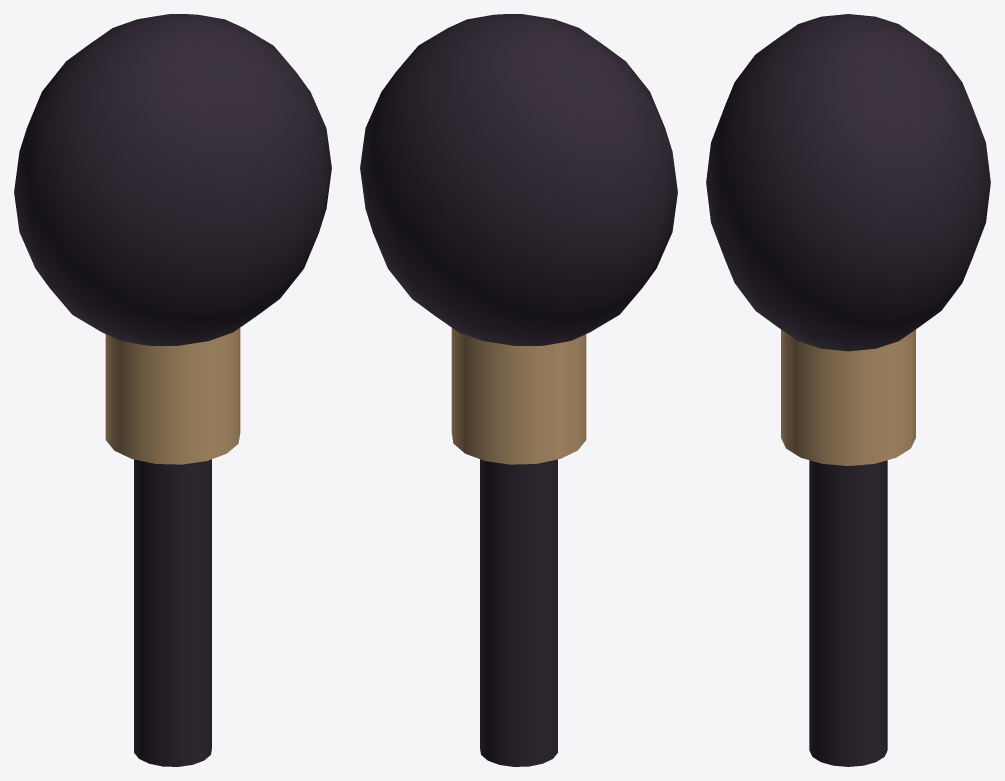
File: TRD-03-01.glb
The picture shows the model from 3 angles, left to right: view 1: azimuth 30°, elevation 25°; view 2: azimuth 150°, elevation 25°; view 3: azimuth 270°, elevation 25°; orthographic projection.
Visible parts, largest first — view 1: TRD-03-01; view 2: TRD-03-01; view 3: TRD-03-01.
Boxes of the visible parts, left/top/right/bottom form: TRD-03-01: left=14, top=14, right=331, bottom=766; TRD-03-01: left=360, top=14, right=677, bottom=766; TRD-03-01: left=706, top=14, right=990, bottom=766.
Bounding box in the file's own units: 0.46 × 1.12 × 0.4.
